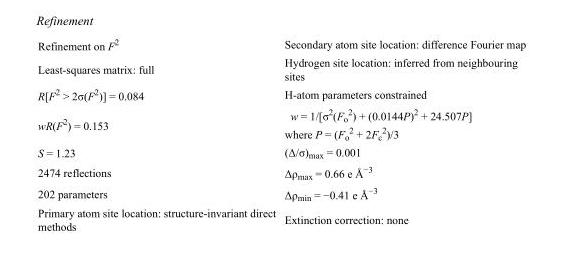table: (37, 36, 525, 232)
table column: (279, 36, 525, 232), (37, 36, 279, 232)
table row: (37, 104, 525, 143), (37, 53, 525, 84), (37, 204, 525, 232), (37, 182, 525, 204), (37, 161, 525, 182), (37, 84, 525, 104), (37, 143, 525, 161), (37, 36, 525, 53)
